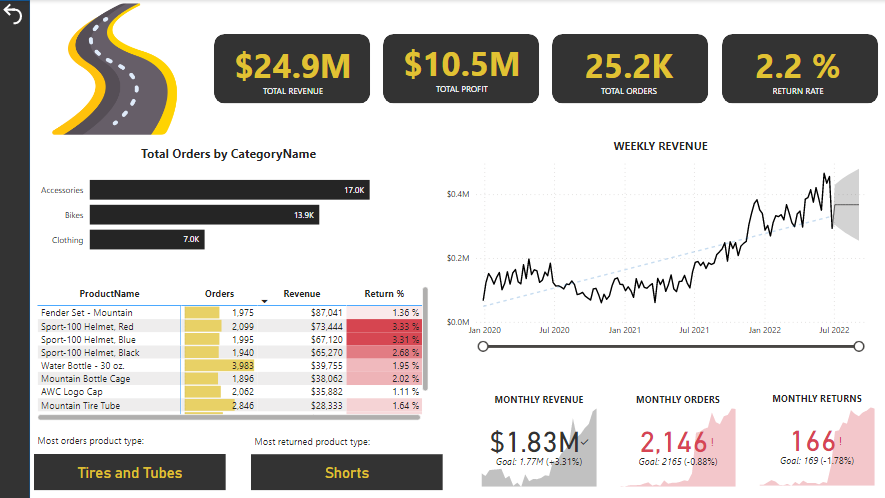

The dashboard page shown, as its layout file describes it:
{"tool":"powerbi","page":{"name":"Overview","canvas":[1280,720],"ordinal":0},"visuals":[{"type":"shape","title":"Right backrounds","box":[0,0,45,720.3],"z":0},{"type":"card","fields":{"Values":["Measure Table.Total Revenue"]},"box":[293.8,39.2,259.4,121.9],"z":0,"group":"g3"},{"type":"shape","box":[310,49.5,225,100],"z":0,"group":"g2"},{"type":"group","id":"g1","title":"KPI","box":[293.8,36,985,125.3],"z":1000},{"type":"card","fields":{"Values":["Measure Table.Total profit"]},"box":[536.7,36,259.2,122.4],"z":1000,"group":"g3"},{"type":"shape","box":[552.7,49.5,225,100],"z":1000,"group":"g2"},{"type":"card","fields":{"Values":["Measure Table.Total Orders"]},"box":[778.2,39.2,259.4,121.9],"z":2000,"group":"g3"},{"type":"group","id":"g2","title":"KPI backround","box":[310,49.5,956.2,100],"z":2000,"group":"g1"},{"type":"shape","box":[797,49.5,225,100],"z":2000,"group":"g2"},{"type":"lineChart","title":"WEEKLY REVENUE","fields":{"Category":["Calendar_Lookup.Date hierarchy.Start of Week"],"Y":["Measure Table.Total Revenue"]},"box":[639.4,198.7,626.4,311],"z":2000},{"type":"group","id":"g3","title":"KPI values","box":[293.8,36,985.9,125],"z":3000,"group":"g1"},{"type":"card","fields":{"Values":["Measure Table.Return_Rate"]},"box":[1020.4,39.2,259.4,121.9],"z":3000,"group":"g3"},{"type":"shape","box":[1041.2,49.5,225,100],"z":3000,"group":"g2"},{"type":"kpi","title":"MONTHLY REVENUE","fields":{"Indicator":["Measure Table.Total Revenue"],"TrendLine":["Calendar_Lookup.Start of Month"],"Goal":["Measure Table.Previus month revenue"]},"box":[689.8,565.9,175.7,139.7],"z":3000},{"type":"kpi","title":"MONTHLY ORDERS","fields":{"TrendLine":["Calendar_Lookup.Start of Month"],"Indicator":["Measure Table.Total Orders"],"Goal":["Measure Table.Previous month orders"]},"box":[889.9,565.9,175.7,139.7],"z":4000},{"type":"kpi","title":"MONTHLY RETURNS","fields":{"TrendLine":["Calendar_Lookup.Start of Month"],"Goal":["Measure Table.Previous month returns"],"Indicator":["Measure Table.Total Returns"]},"box":[1090.1,564.5,175.7,139.7],"z":5000},{"type":"barChart","fields":{"Category":["Product_Categories_Lookup[1].CategoryName"],"Y":["Measure Table.Total Orders"]},"box":[50.4,208.8,560.2,171.4],"z":6000},{"type":"pivotTable","fields":{"Rows":["Product_Lookup.ProductName"],"Values":["Measure Table.Total Orders","Measure Table.Total Revenue","Measure Table.Return_Rate"]},"box":[50.4,407.5,573.1,203],"z":7000},{"type":"card","fields":{"Values":["Min(Product_Subcategories_Lookup[1].SubcategoryName)"]},"box":[50.4,653.8,276.5,51.8],"z":8000},{"type":"textbox","box":[50.4,620.6,276.5,33.1],"z":9000},{"type":"card","fields":{"Values":["Min(Product_Subcategories_Lookup[1].SubcategoryName)"]},"box":[362.9,653.8,276.5,51.8],"z":10000},{"type":"textbox","box":[362.9,622.1,276.5,31.7],"z":11000},{"type":"actionButton","box":[0,0,44.3,40],"z":12000},{"type":"image","box":[23,0,286.6,198.7],"z":14000}]}

Visuals, with their boxes in screenshot pixels (x1, y1, x2, y2), scaled from the page's 1280x720 canvas onto the 885x498 screenshot:
"Right backrounds" shape: (left=0, top=0, right=31, bottom=497)
card - Measure Table.Total Revenue: (left=203, top=27, right=382, bottom=111)
shape: (left=214, top=34, right=370, bottom=103)
"KPI" group: (left=203, top=25, right=884, bottom=112)
card - Measure Table.Total profit: (left=371, top=25, right=550, bottom=110)
shape: (left=382, top=34, right=538, bottom=103)
card - Measure Table.Total Orders: (left=538, top=27, right=717, bottom=111)
"KPI backround" group: (left=214, top=34, right=875, bottom=103)
shape: (left=551, top=34, right=707, bottom=103)
"WEEKLY REVENUE" lineChart: (left=442, top=137, right=875, bottom=353)
"KPI values" group: (left=203, top=25, right=884, bottom=111)
card - Measure Table.Return_Rate: (left=706, top=27, right=884, bottom=111)
shape: (left=720, top=34, right=875, bottom=103)
"MONTHLY REVENUE" kpi: (left=477, top=391, right=598, bottom=488)
"MONTHLY ORDERS" kpi: (left=615, top=391, right=737, bottom=488)
"MONTHLY RETURNS" kpi: (left=754, top=390, right=875, bottom=487)
barChart - Product_Categories_Lookup[1].CategoryName x Measure Table.Total Orders: (left=35, top=144, right=422, bottom=263)
pivotTable - Product_Lookup.ProductName x Measure Table.Total Orders: (left=35, top=282, right=431, bottom=422)
card - Min(Product_Subcategories_Lookup[1].SubcategoryName): (left=35, top=452, right=226, bottom=488)
textbox: (left=35, top=429, right=226, bottom=452)
card - Min(Product_Subcategories_Lookup[1].SubcategoryName): (left=251, top=452, right=442, bottom=488)
textbox: (left=251, top=430, right=442, bottom=452)
actionButton: (left=0, top=0, right=31, bottom=28)
image: (left=16, top=0, right=214, bottom=137)
